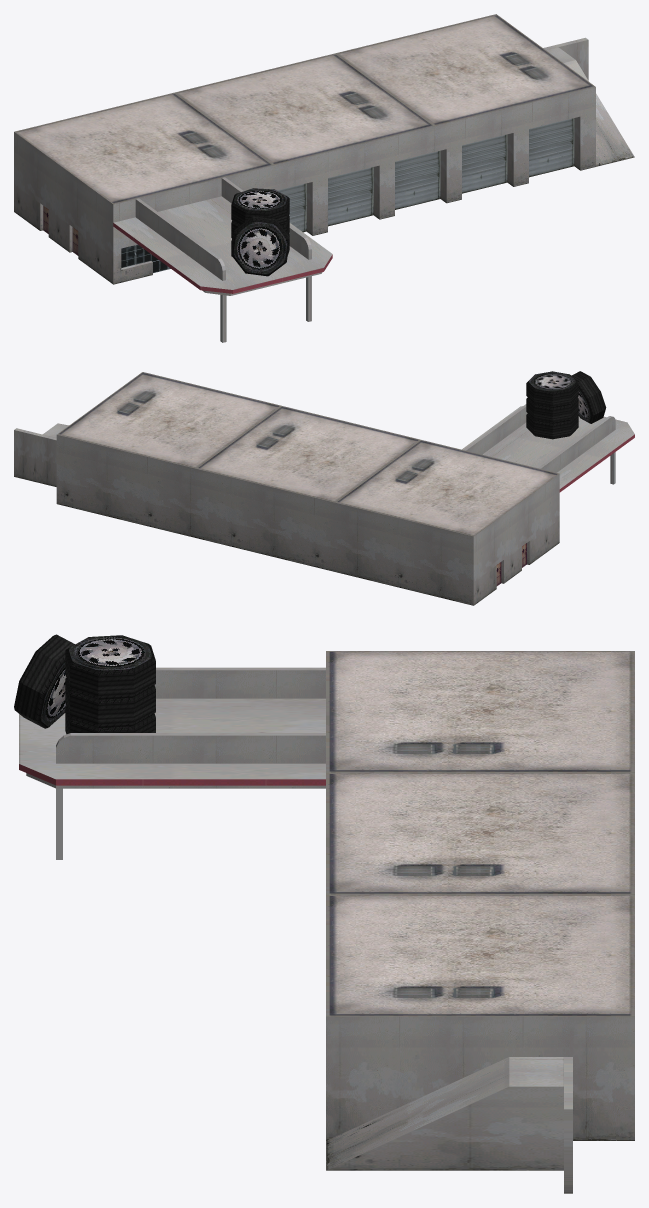
The model's file is vgnlowbuild203.obj.
The picture shows the model from 3 angles, top to bottom: view 1: azimuth 30°, elevation 25°; view 2: azimuth 150°, elevation 25°; view 3: azimuth 270°, elevation 25°; orthographic projection. The views are drawn at different scales.
Parts seen in each view (by area): view 1: vgnlowbuild203; view 2: vgnlowbuild203; view 3: vgnlowbuild203.
Part boxes in pixels (x1,y1,x2,y2): vgnlowbuild203: (14,14,634,342); vgnlowbuild203: (14,371,634,605); vgnlowbuild203: (14,634,634,1193).
Bounding box in the file's own units: 46.59 × 9.42 × 29.24.
Materials: 9 (9 with a texture image).
